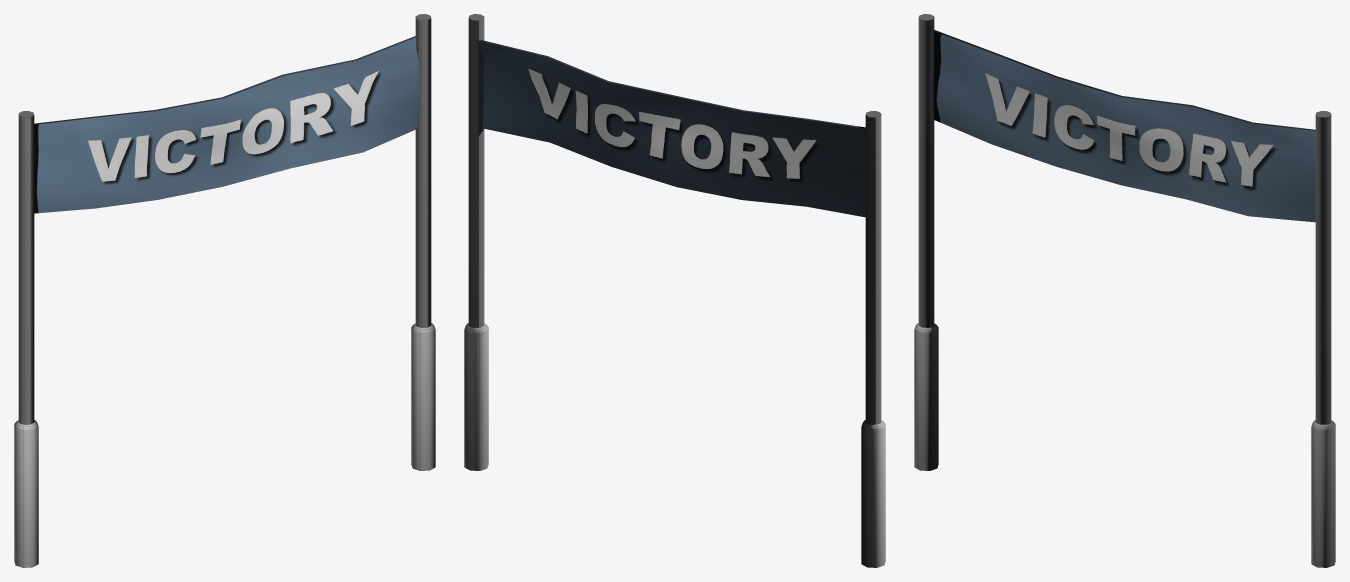
File: goal.obj
3 renders of one model, left to right at view 1: azimuth 30°, elevation 25°; view 2: azimuth 150°, elevation 25°; view 3: azimuth 330°, elevation 25°, orthographic.
Parts seen in each view (by area): view 1: Plane002; view 2: Plane002; view 3: Plane002.
Boxes of the visible parts, box(x1,y1,x2,y2) form: Plane002: box(14, 14, 435, 567); Plane002: box(464, 14, 885, 567); Plane002: box(914, 14, 1335, 567).
Size of the model in its own units: 240 by 245 by 13.56.
1 material, 1 textured.
